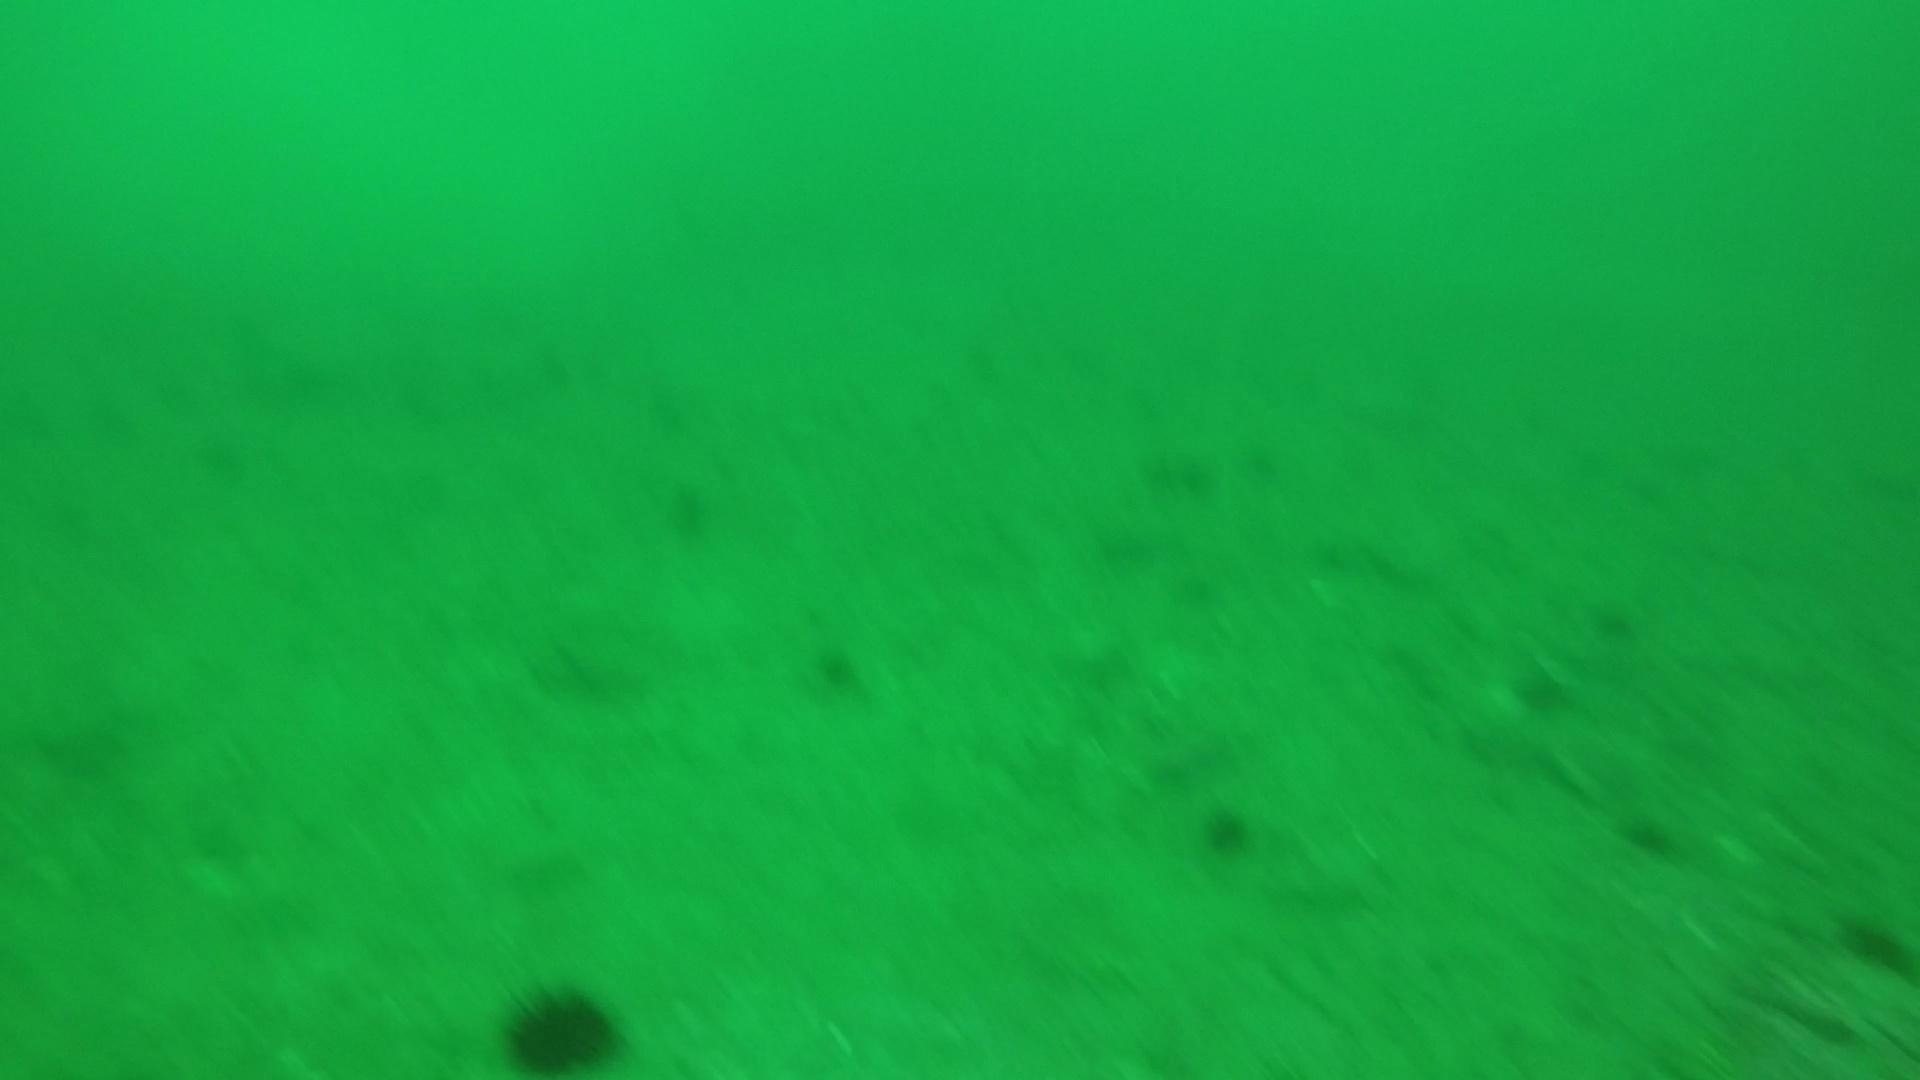echinus: (497, 978, 626, 1072), (1838, 909, 1915, 982), (1509, 659, 1575, 720), (659, 477, 719, 543), (804, 640, 869, 699), (1195, 799, 1258, 858), (1585, 596, 1643, 647), (1180, 450, 1216, 506), (1135, 448, 1171, 504)
